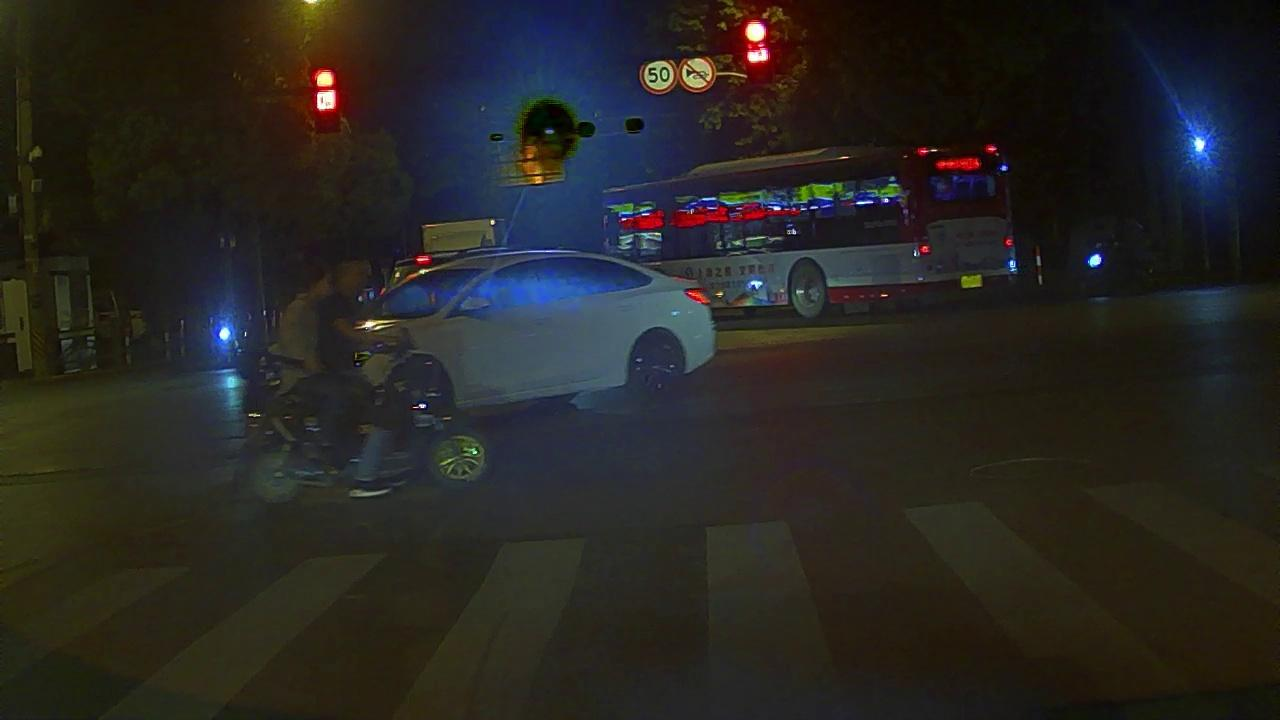traffic_light: (742, 19, 772, 82), (309, 66, 338, 128)
